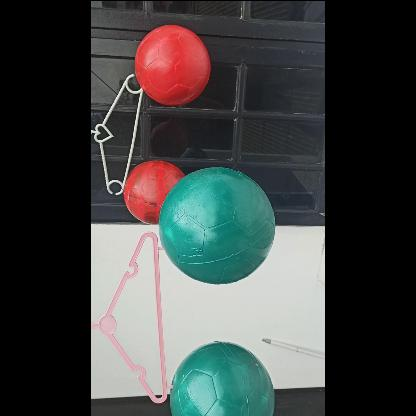red_ball: (132, 23, 210, 102)
